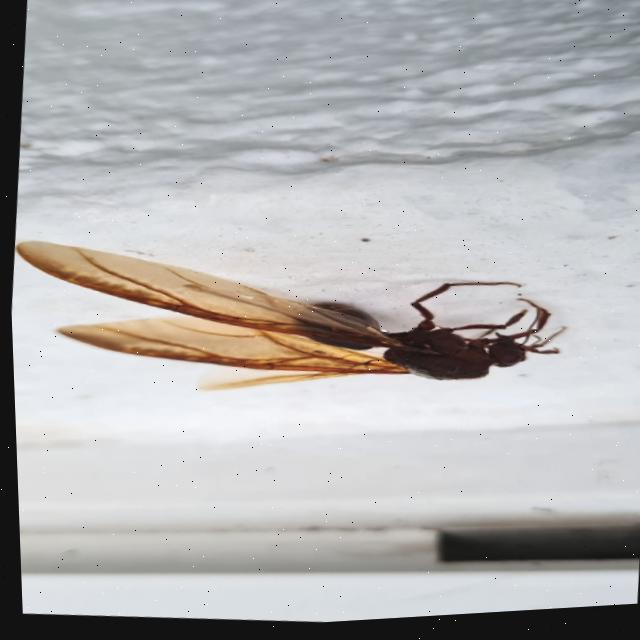Dead-Female-Alate: (7, 213, 576, 433)
